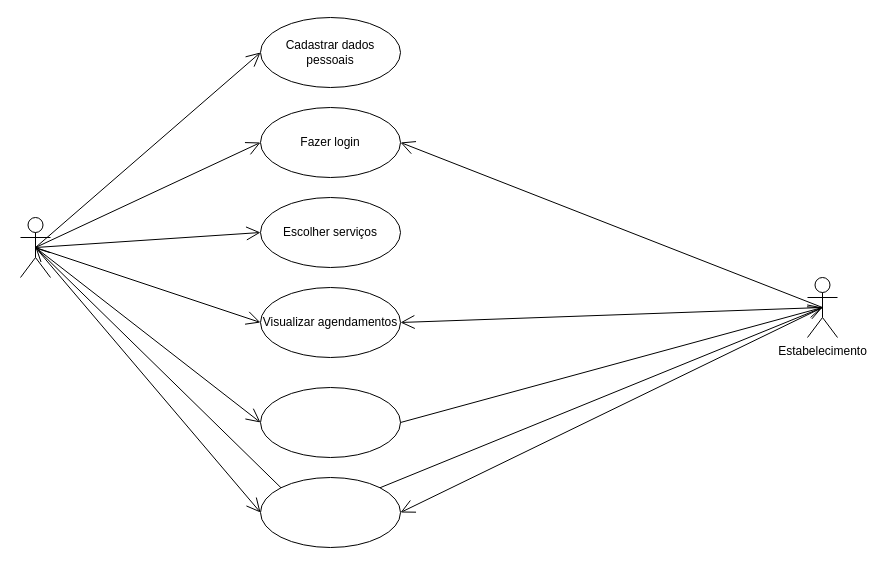
Some shapes in this 884 by 565 pixel diagram are drawn without their labels. Each missing label, with the box of its shape:
Agendar atendimento: (260, 386, 400, 458)
Cancelar agendamento: (260, 476, 400, 548)
Cliente: (20, 216, 50, 278)
